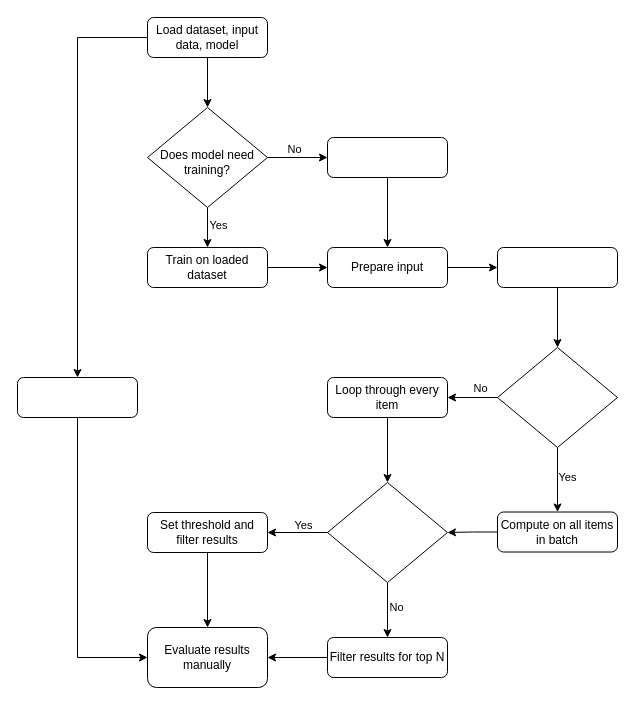
Image size: 635x705. Some labels were removed from this diagram. The centre of each missing label's shape, as x and y in pixels:
"Calculate similarity" goes at [557,267].
"Load pretrained model" goes at [387,157].
"Supports batch vectorization?" goes at [557,397].
"Test coverage?" goes at [387,532].
"Track resources parallel" goes at [77,397].
